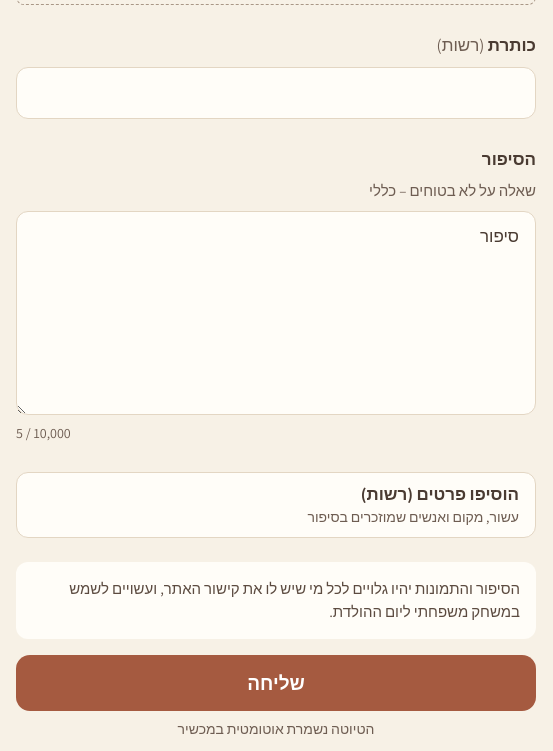
Scenario: adding a story › shows a server refusal and lets the person try again
(page scrolled)
Click the button "שליחה" at (276, 683), box [16,655,536,711]
(page scrolled)
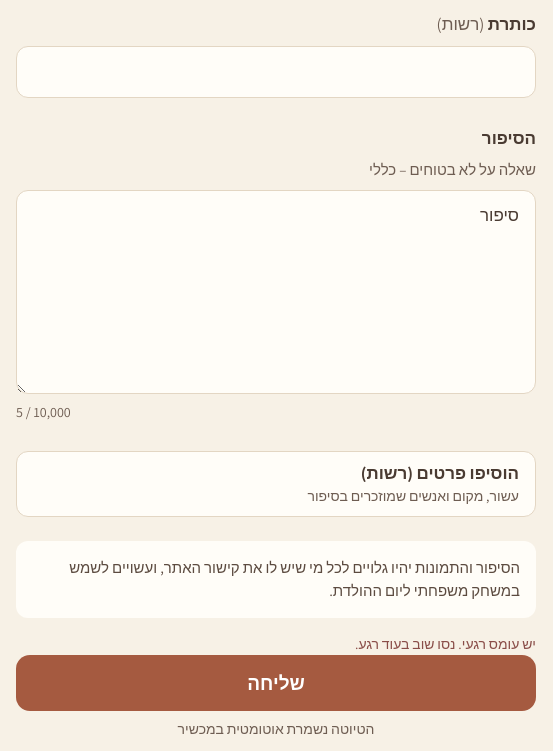
Now the message shows "יש עומס רגעי", box [355,635,536,653]
Click the button "שליחה" at (276, 683), box [16,655,536,711]
(page scrolled)
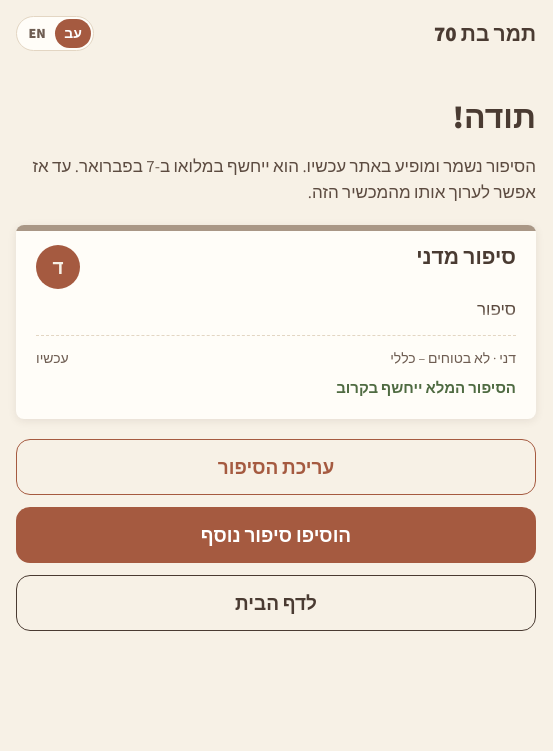
Now the heading "תודה!" is shown, box [452,95,536,137]
